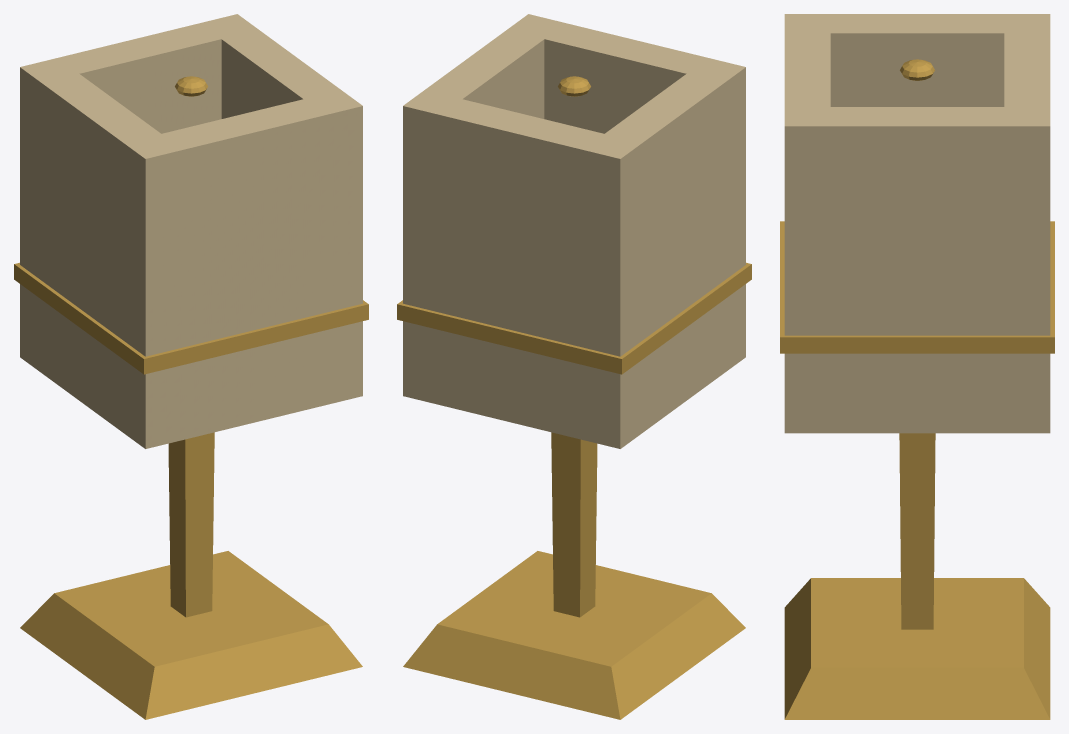
The model's file is lampSquareTable.glb.
3 views of the same model, side by side, from view 1: azimuth 30°, elevation 25°; view 2: azimuth 150°, elevation 25°; view 3: azimuth 270°, elevation 25° (orthographic). The views are drawn at different scales.
Visible parts, largest first — view 1: lampSquareTable(Clone); view 2: lampSquareTable(Clone); view 3: lampSquareTable(Clone).
Part boxes in pixels (x1,y1,x2,y2): lampSquareTable(Clone): (14, 14, 368, 719); lampSquareTable(Clone): (397, 14, 751, 719); lampSquareTable(Clone): (780, 14, 1054, 719).
Size of the model in its own units: 0.12 by 0.29 by 0.12.
